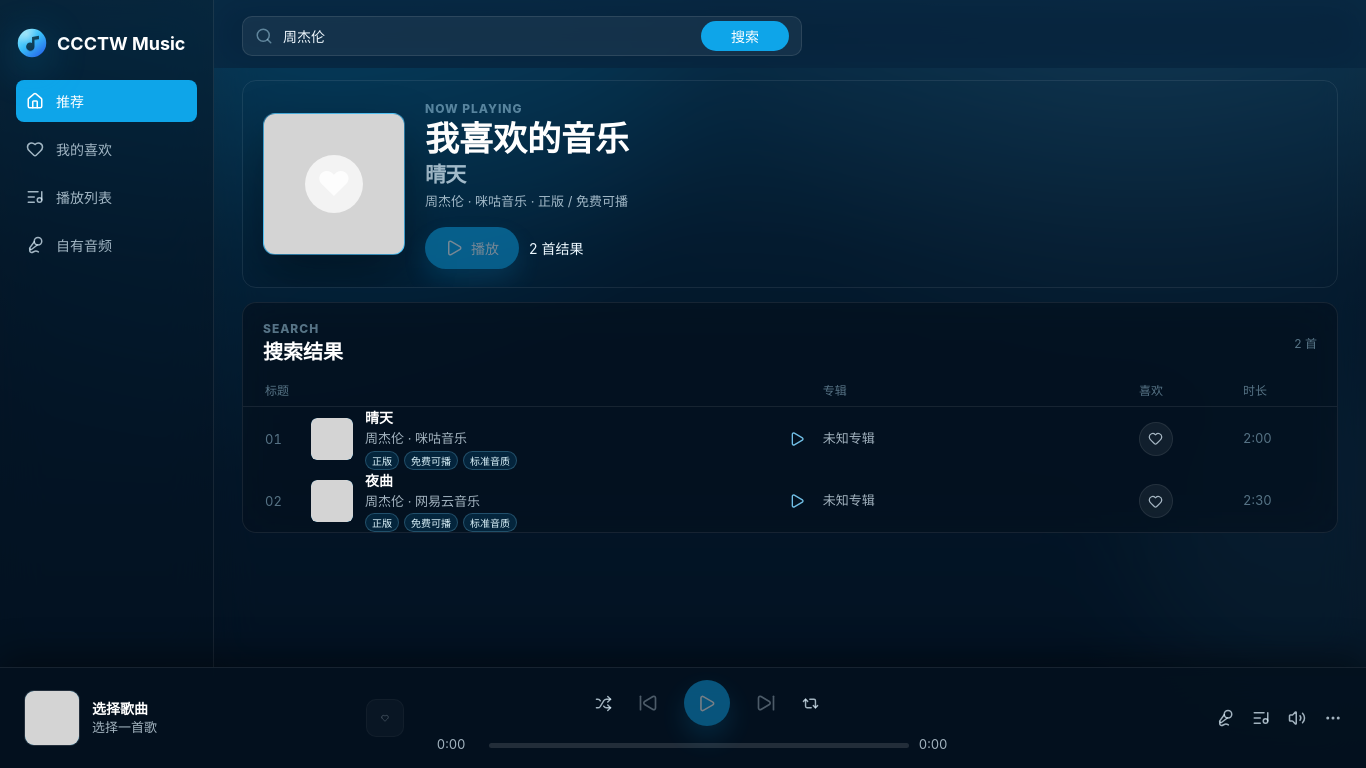
Test: App › returns to the discover search view from library navigation
Click the button named "播放 晴天". click: [332, 439]
box: 265,407 -> 809,470
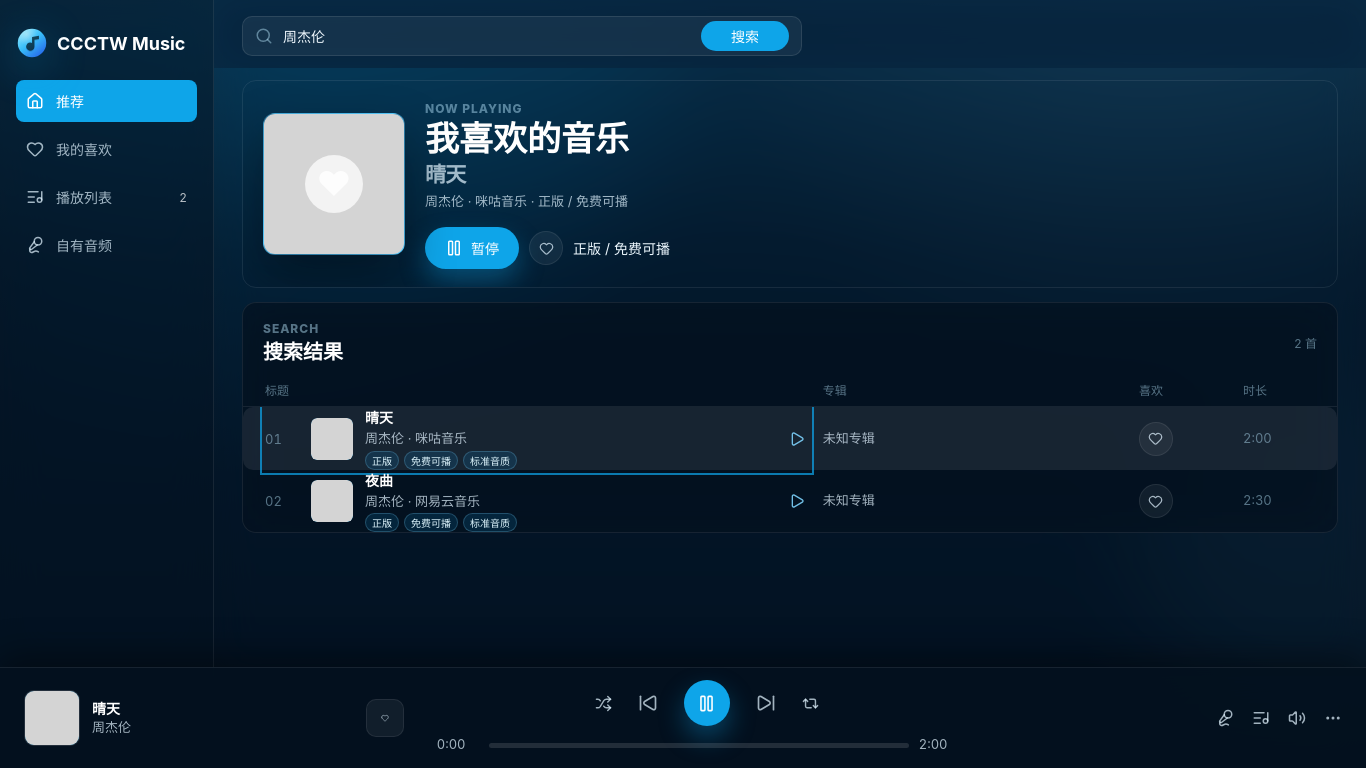
Click the button "播放列表 2". click: [106, 197]
box: 16,176 -> 197,218
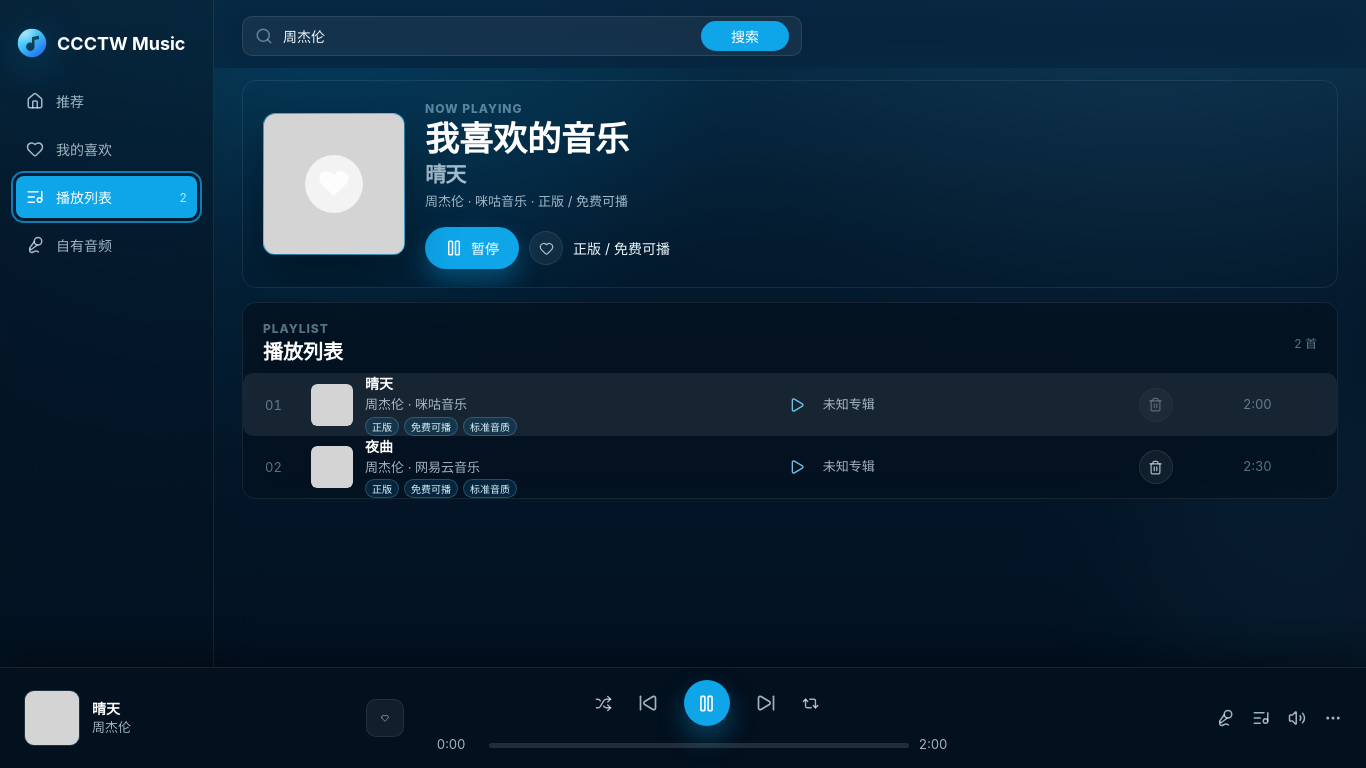
expect the heading "播放列表" is shown: met, box 263,336 -> 343,365
Click the button "推荐". click: [106, 101]
box: 16,80 -> 197,122
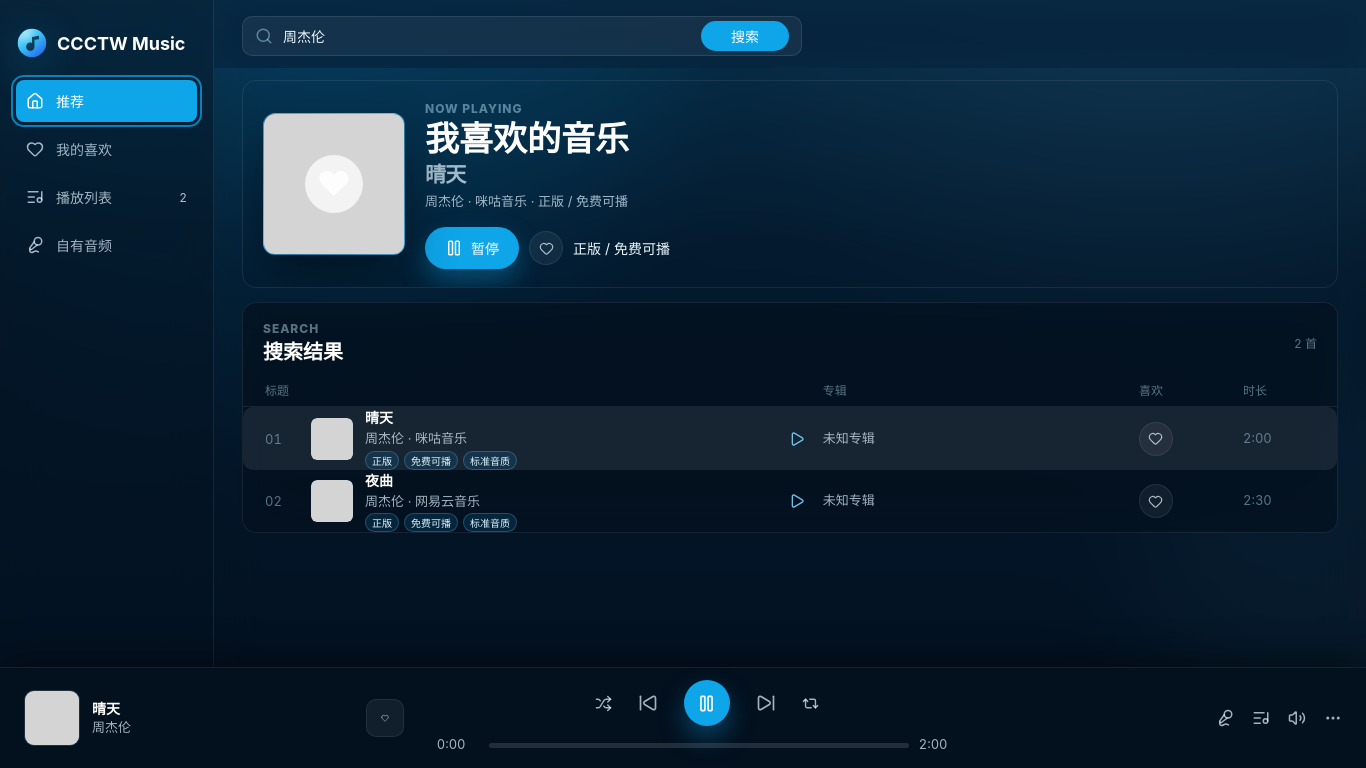
expect the heading "搜索结果" is shown: met, box 263,336 -> 343,365
